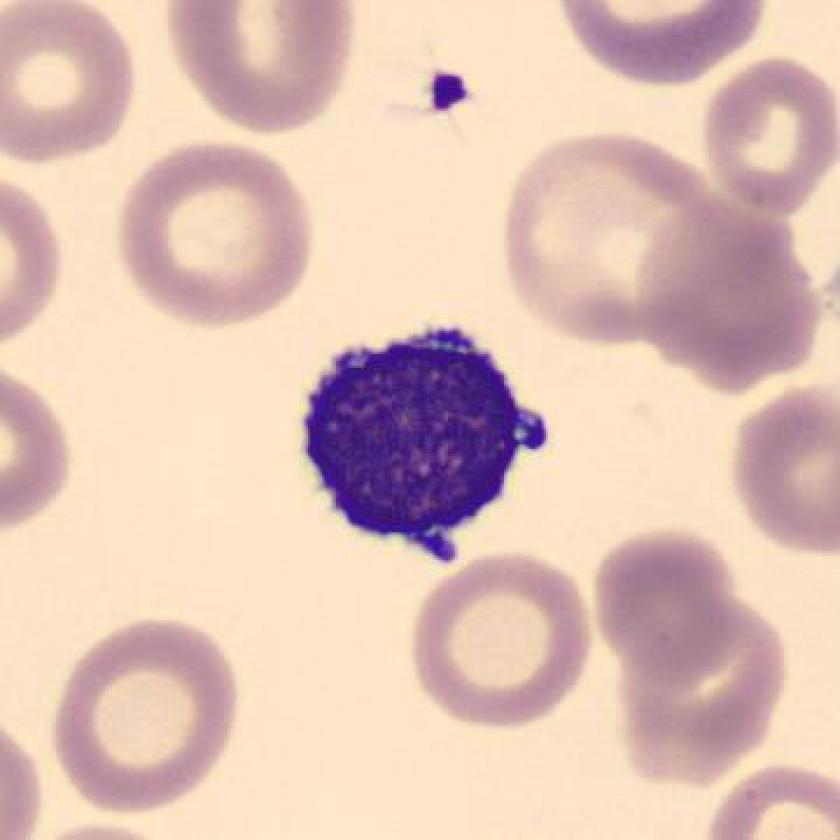lymphocyte: (284, 309, 564, 566)
